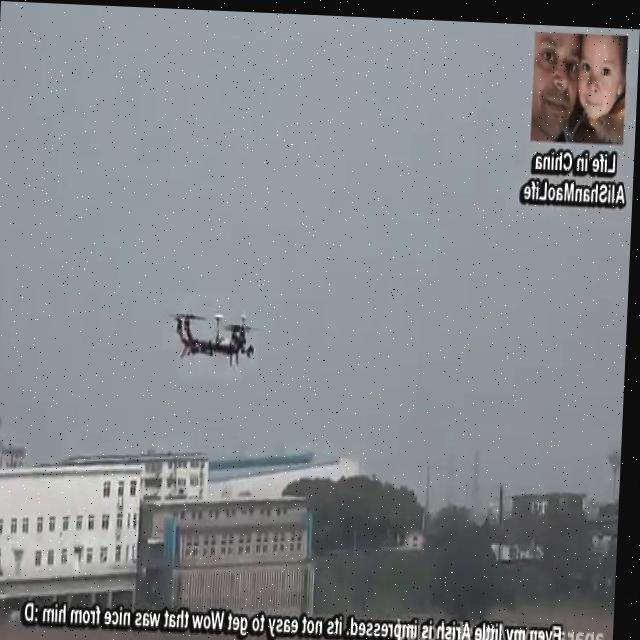drone: (166, 304, 263, 364)
